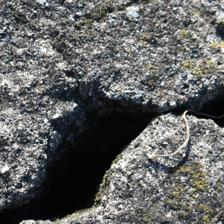Crack: (3, 71, 166, 223), (169, 74, 224, 138)
